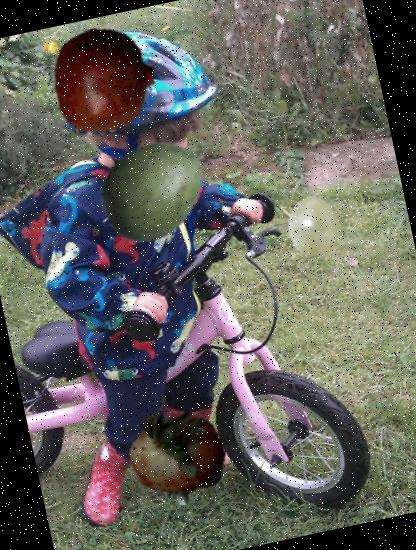Grape: (278, 190, 350, 262)
Mango: (84, 120, 219, 256)
Pomegranate: (42, 17, 167, 144)
Strawberry: (113, 386, 242, 515)
